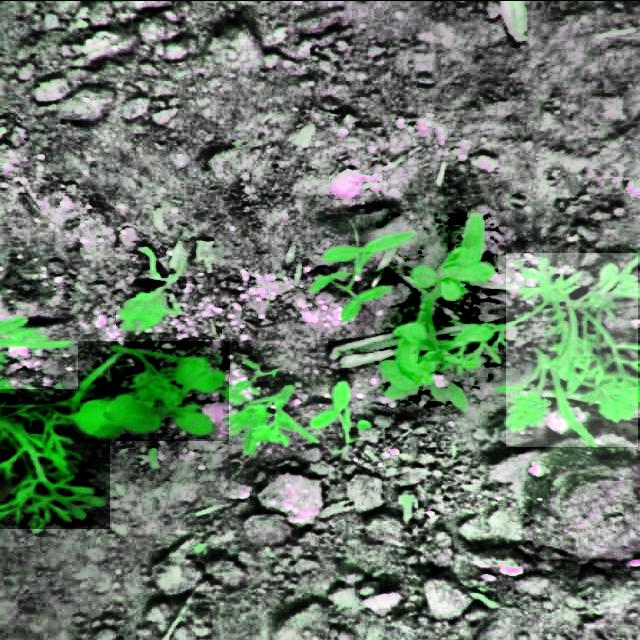Weeds: (78, 340, 230, 440)
undefined: (506, 252, 638, 446), (376, 212, 500, 406), (0, 388, 110, 528), (229, 376, 368, 456)
